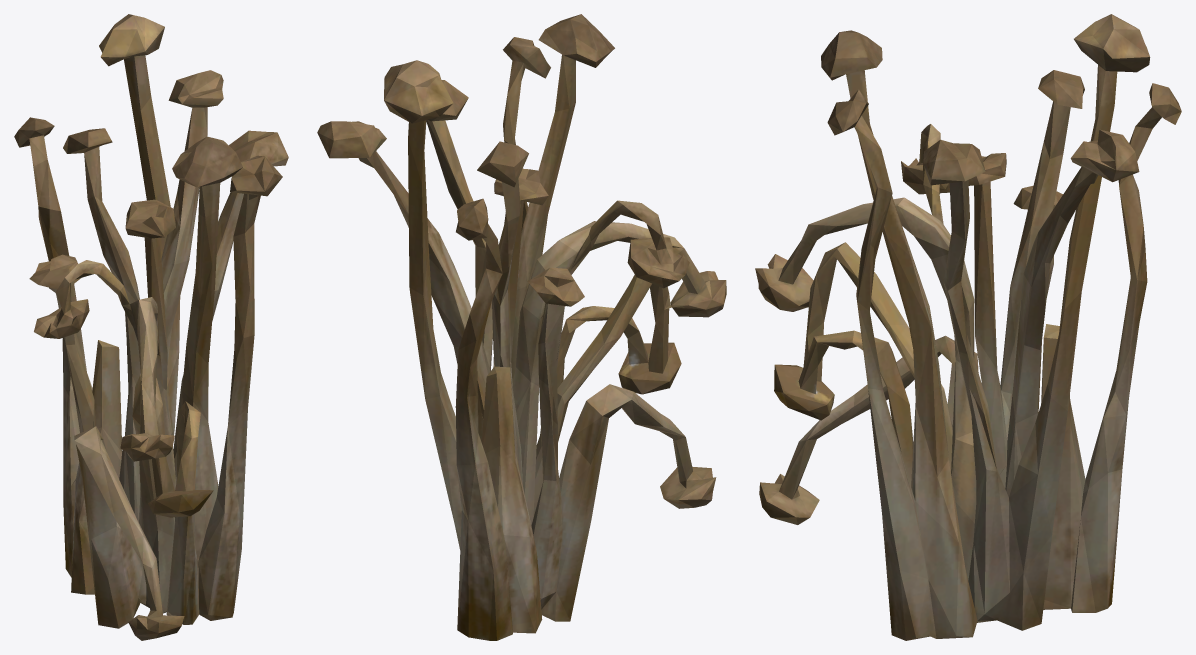
The model's file is P_Jingzhenggu_04.obj.
The picture shows the model from 3 angles, left to right: view 1: azimuth 30°, elevation 25°; view 2: azimuth 150°, elevation 25°; view 3: azimuth 270°, elevation 25°; orthographic projection. The views are drawn at different scales.
Size of the model in its own units: 0.4977 by 0.9799 by 0.5972.
1 material, 1 textured.
